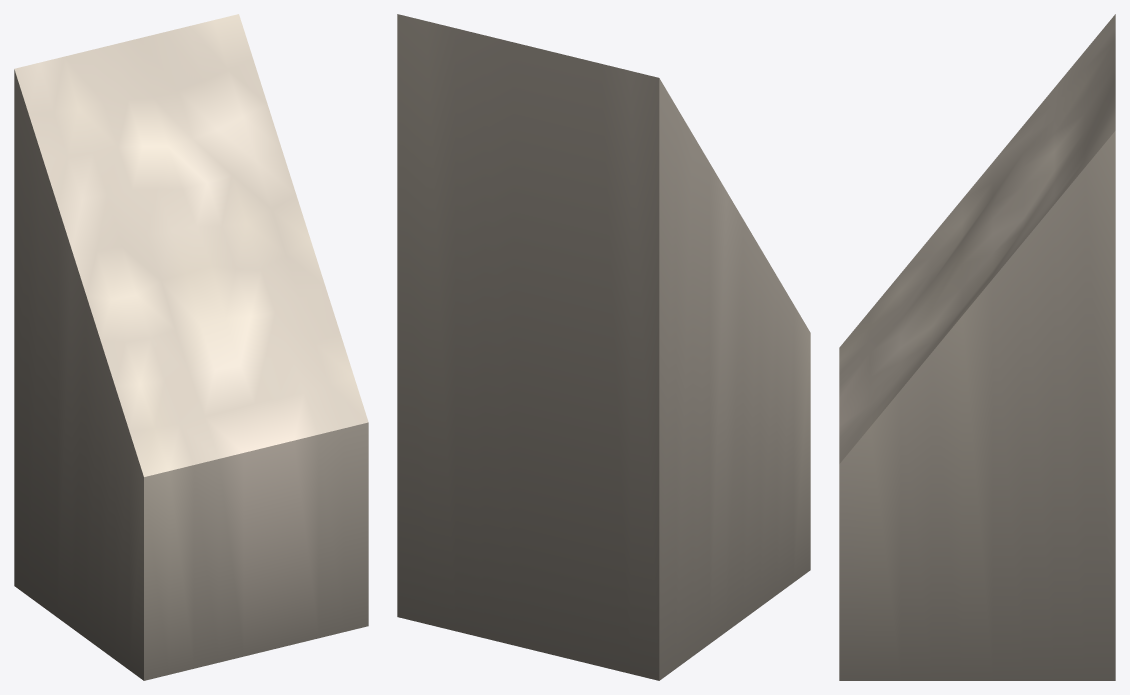
Rendered from SM_VKI_Rock_Cave_CCFF_A.fbx.
3 views of the same model, side by side, from view 1: azimuth 30°, elevation 25°; view 2: azimuth 150°, elevation 25°; view 3: azimuth 270°, elevation 25° (orthographic). The views are drawn at different scales.
Parts seen in each view (by area): view 1: SM_VKI_Rock_Cave_CCFF_A.001; view 2: SM_VKI_Rock_Cave_CCFF_A.001; view 3: SM_VKI_Rock_Cave_CCFF_A.001.
Boxes of the visible parts, x1,y1,x2,y2 form: SM_VKI_Rock_Cave_CCFF_A.001: (14, 14, 368, 680); SM_VKI_Rock_Cave_CCFF_A.001: (397, 14, 810, 680); SM_VKI_Rock_Cave_CCFF_A.001: (839, 14, 1115, 680).
Bounding box in the file's own units: 1.5 × 3.3 × 1.5.
